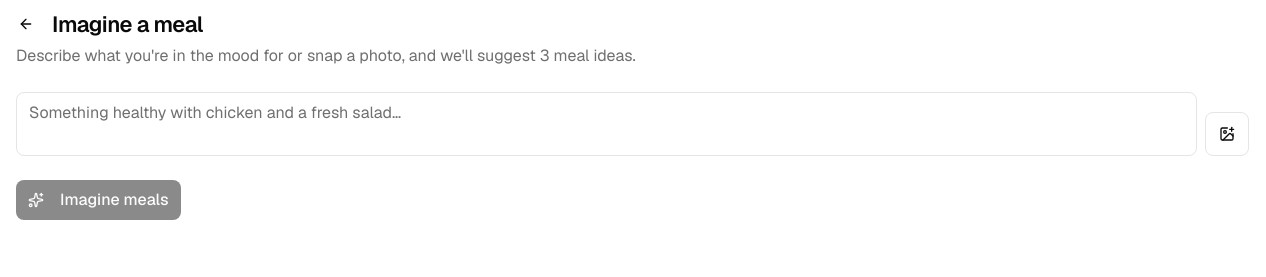
Scenario: ImagineClient error localization › renders the English timeout copy on the en locale
The width and height of the screenshot is (1266, 277).
Type "something with lentils" into the text box at point(606, 124), box [16, 92, 1197, 156]
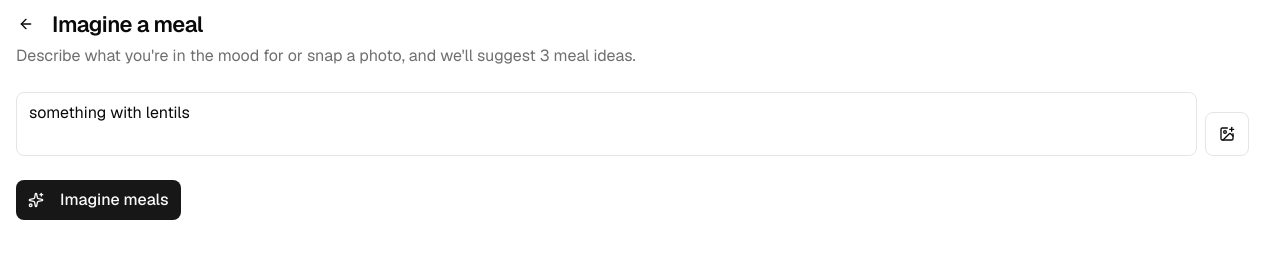
Click the button "Imagine meals" at point(98, 200), box [16, 180, 181, 220]
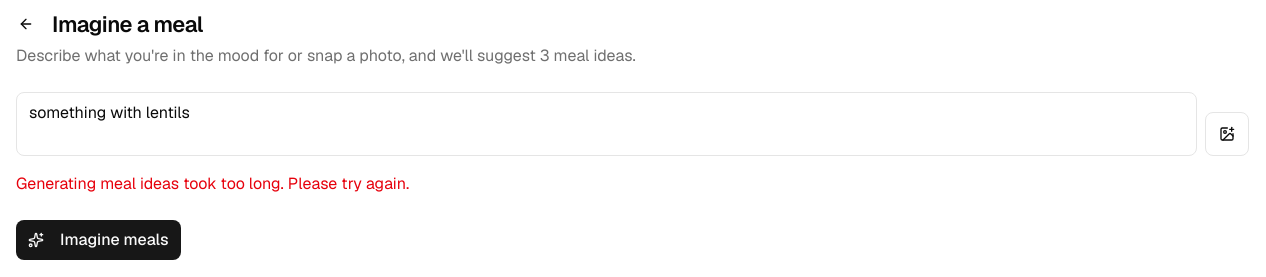
Expected: the text "Generating meal ideas took too long. Please try again." is shown, [16, 173, 409, 194]
